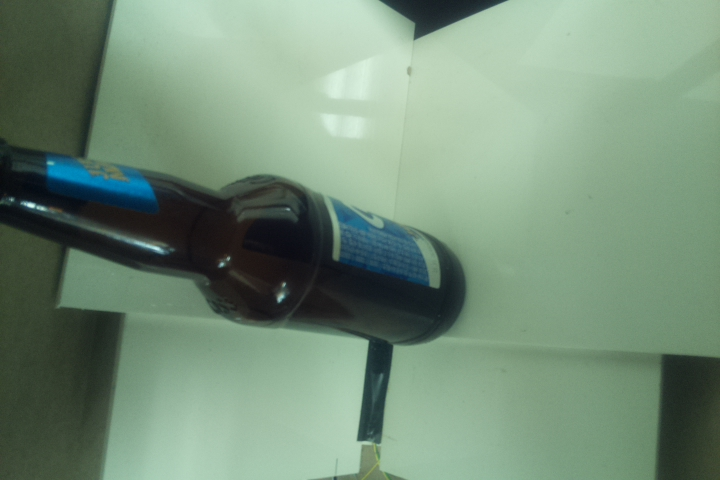makju: (1, 133, 467, 350)
